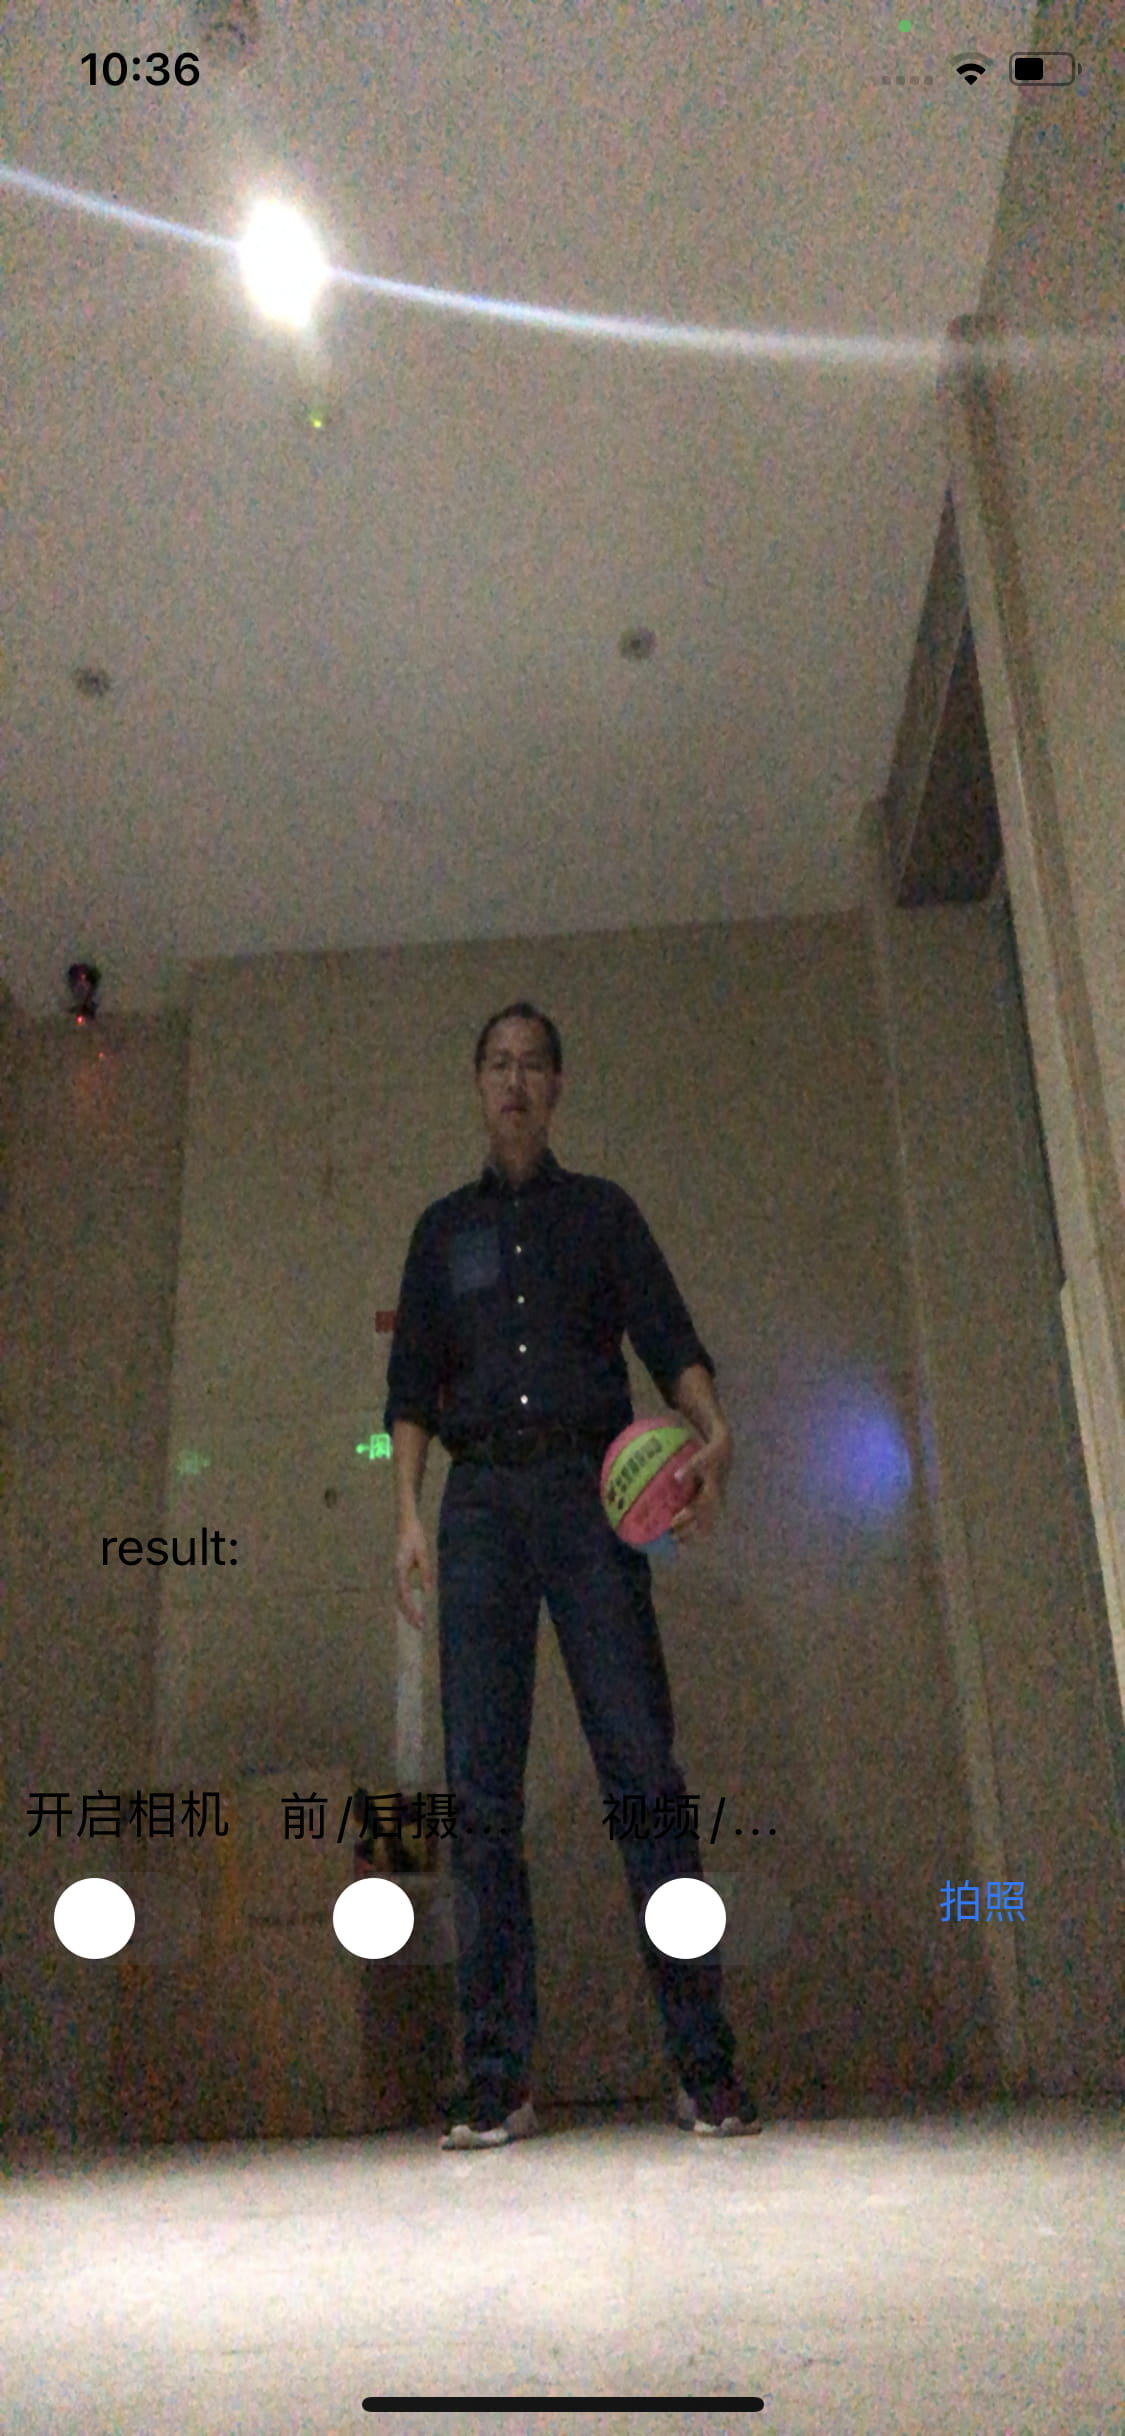ball: (597, 1409, 726, 1552)
